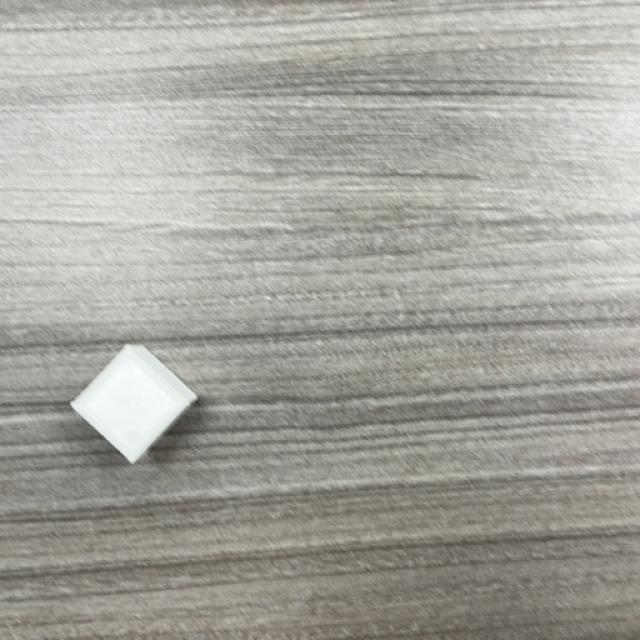Blanco: (69, 345, 198, 465)
